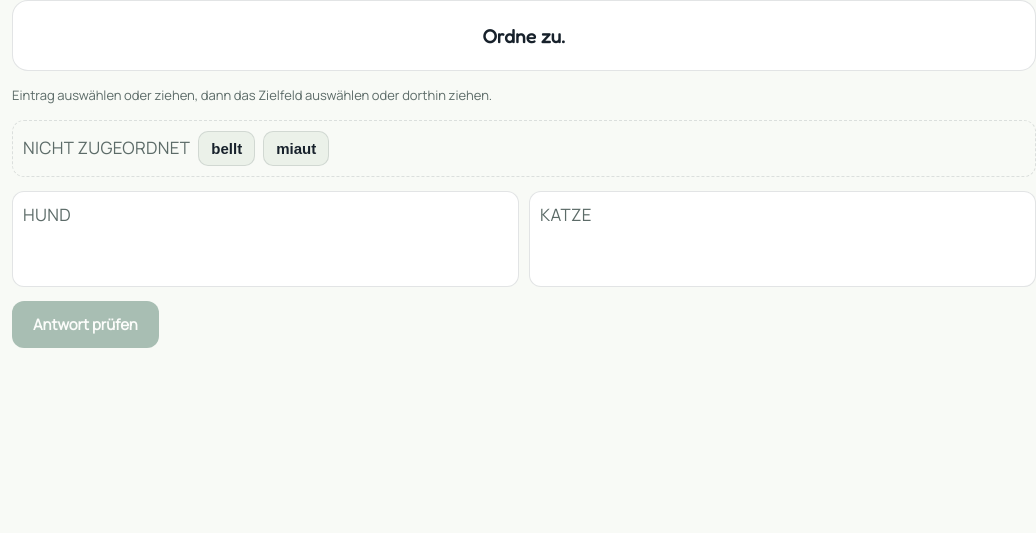
it: MatchingStep: Rückmeldung mit Lösung › zeigt am Begriff ein Zeichen und einen Text für Hilfstechnik, nicht nur eine Farbe
This screenshot has width=1036, height=533.
Step 1. Click the button "bellt" → (227, 148), box [198,131,255,166]
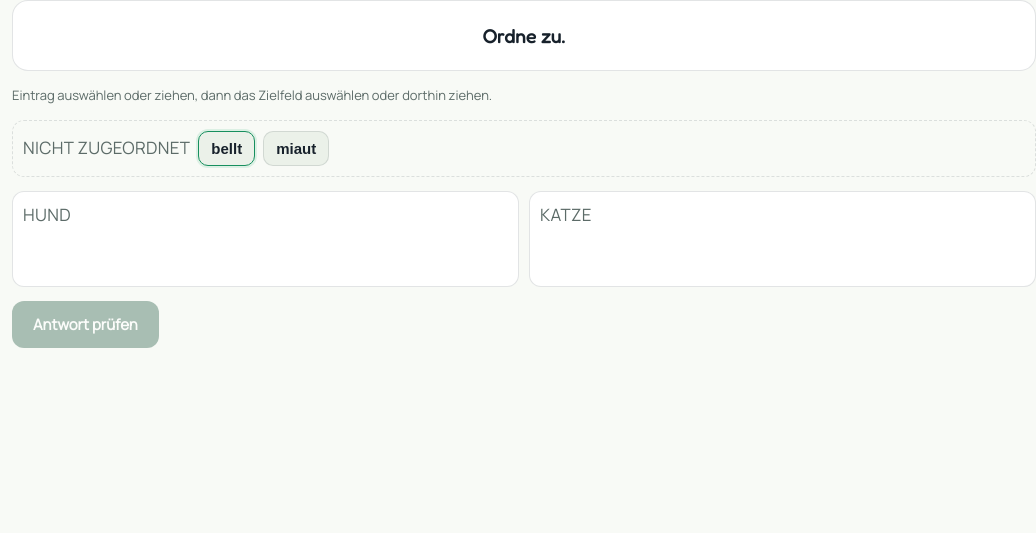
Step 2. Click the button "Hund" → (47, 214), box [23,202,508,228]
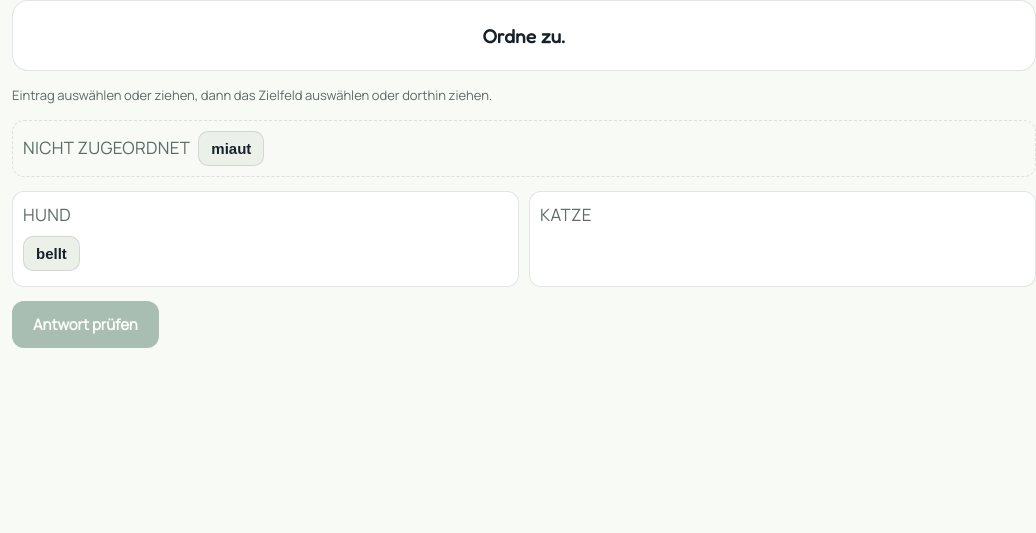
Step 3. Click the button "miaut" → (231, 148), box [198,131,264,166]
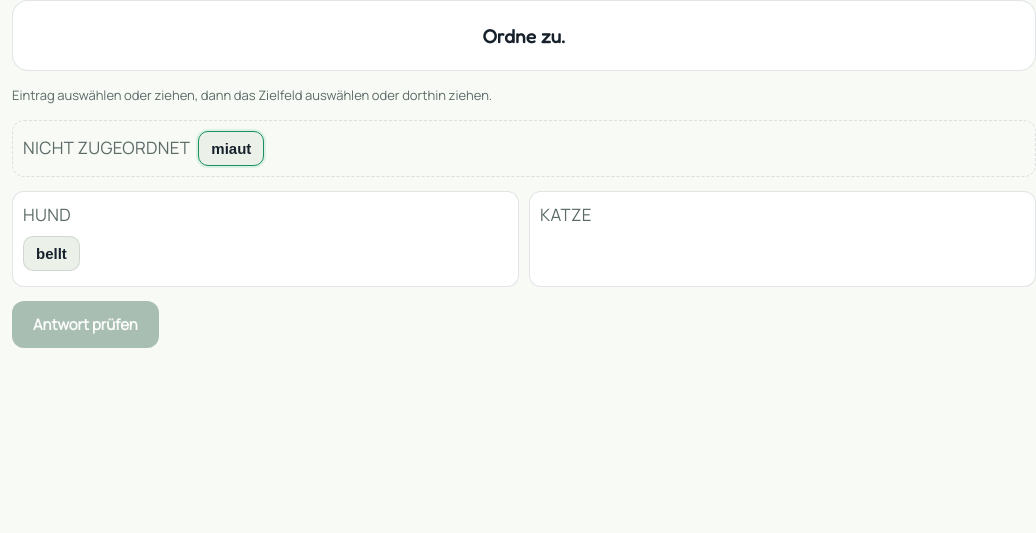
Step 4. Click the button "Katze" → (566, 214), box [540,202,1025,228]
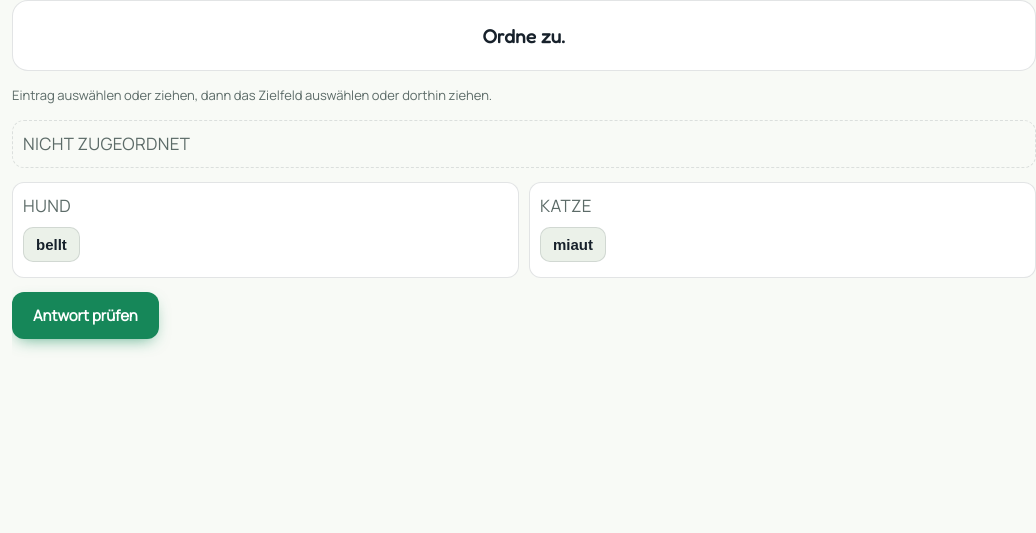
Step 5. Click the button "Antwort prüfen" → (85, 315), box [12,292,159,339]
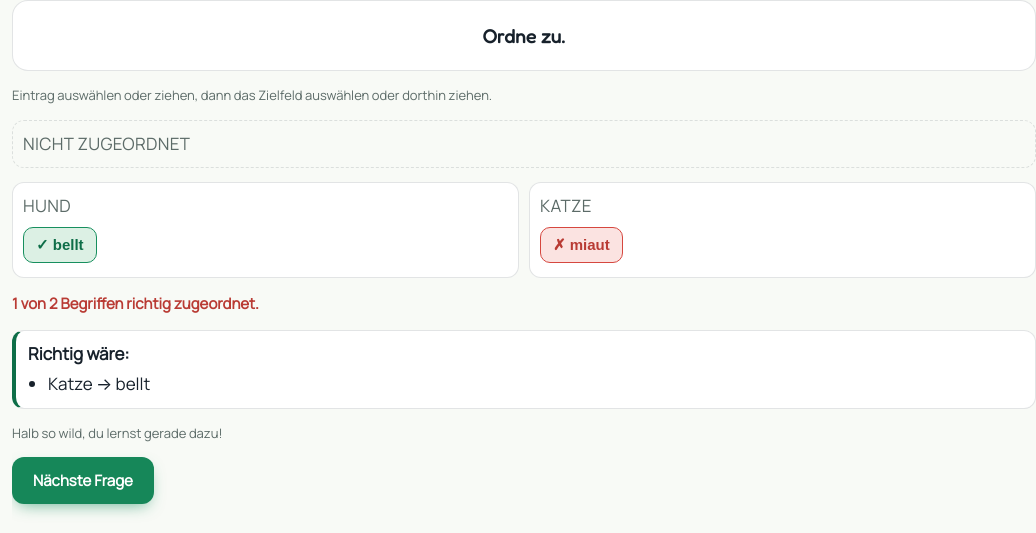
Expected: the button "✓ bellt" is shown, [23,227,97,263]
Expected: the button "✗ miaut" is shown, [540,227,623,263]
